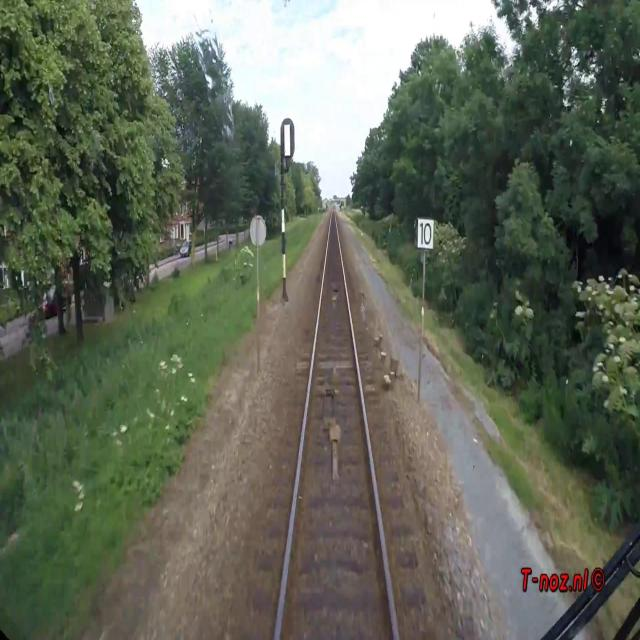rail-track: (279, 206, 395, 639)
